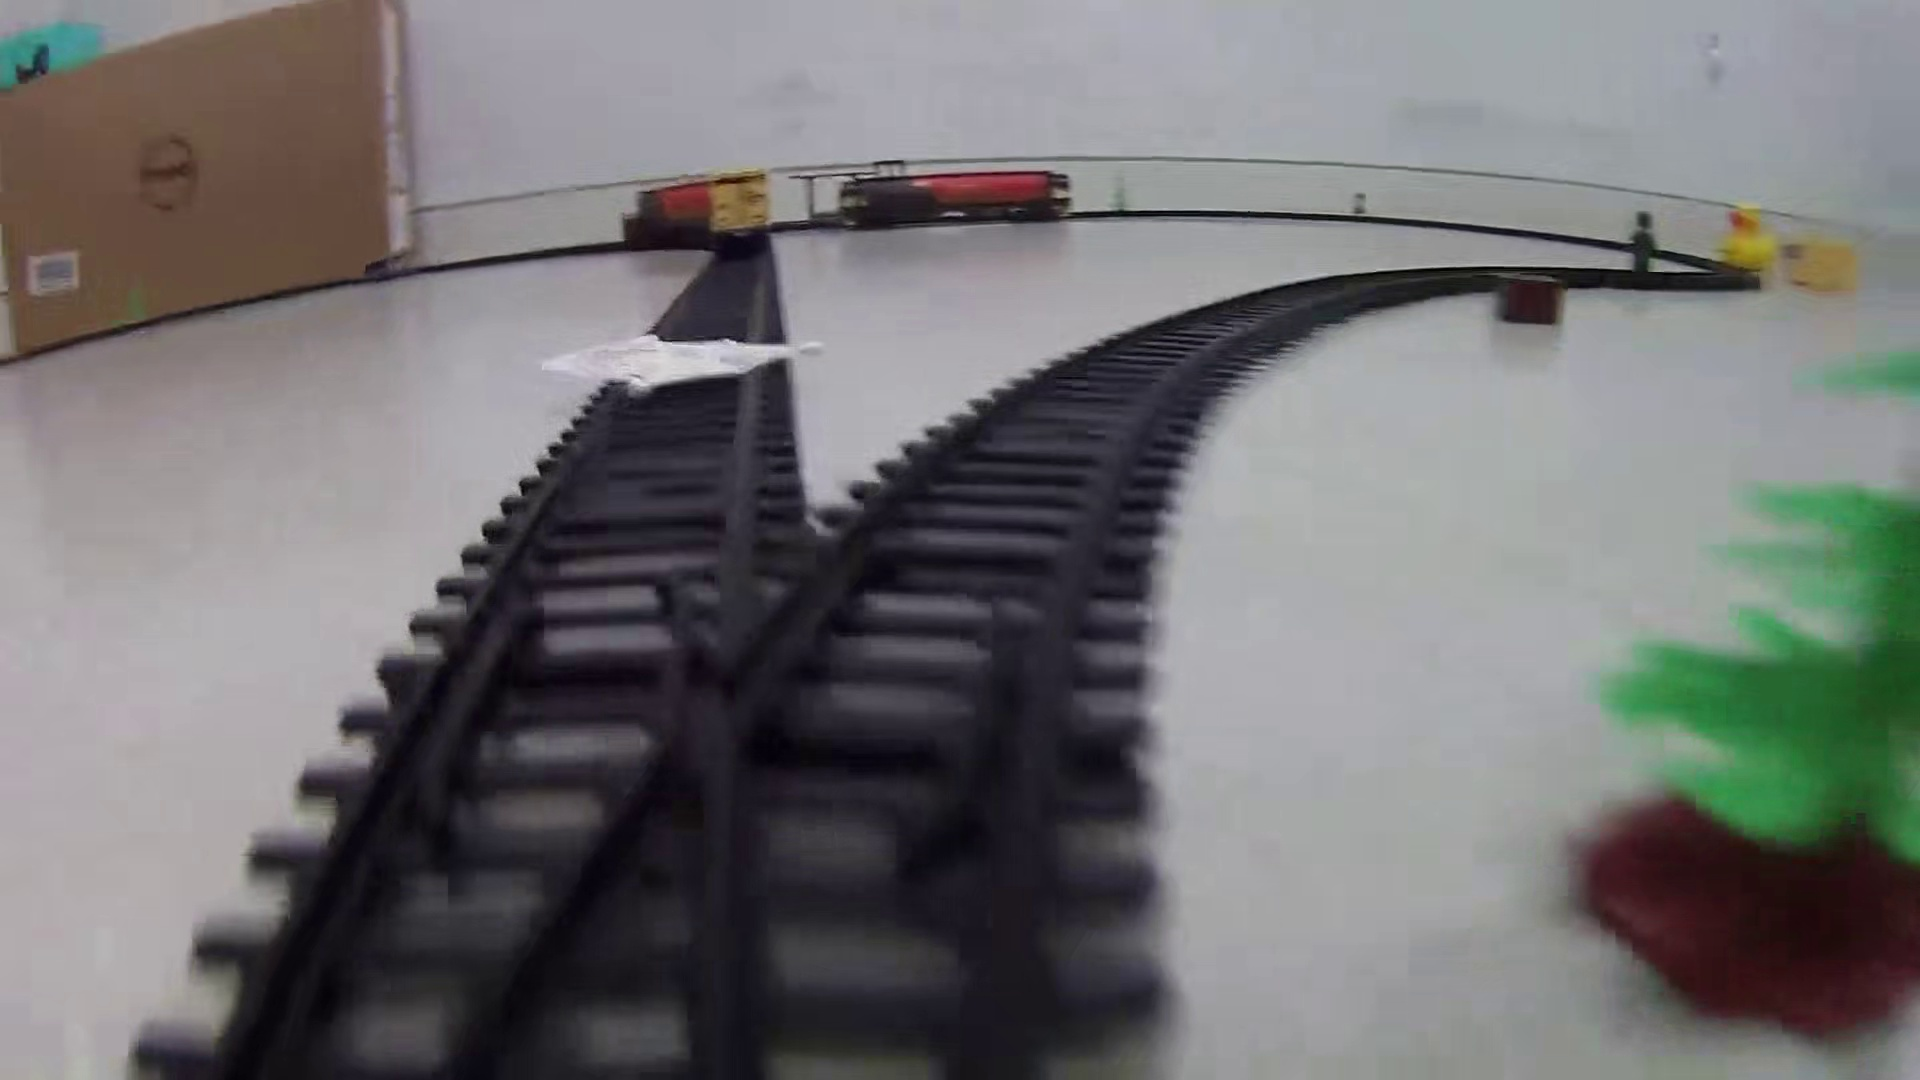box: (1487, 267, 1572, 333)
people: (1622, 207, 1664, 285)
web: (526, 333, 827, 398)
